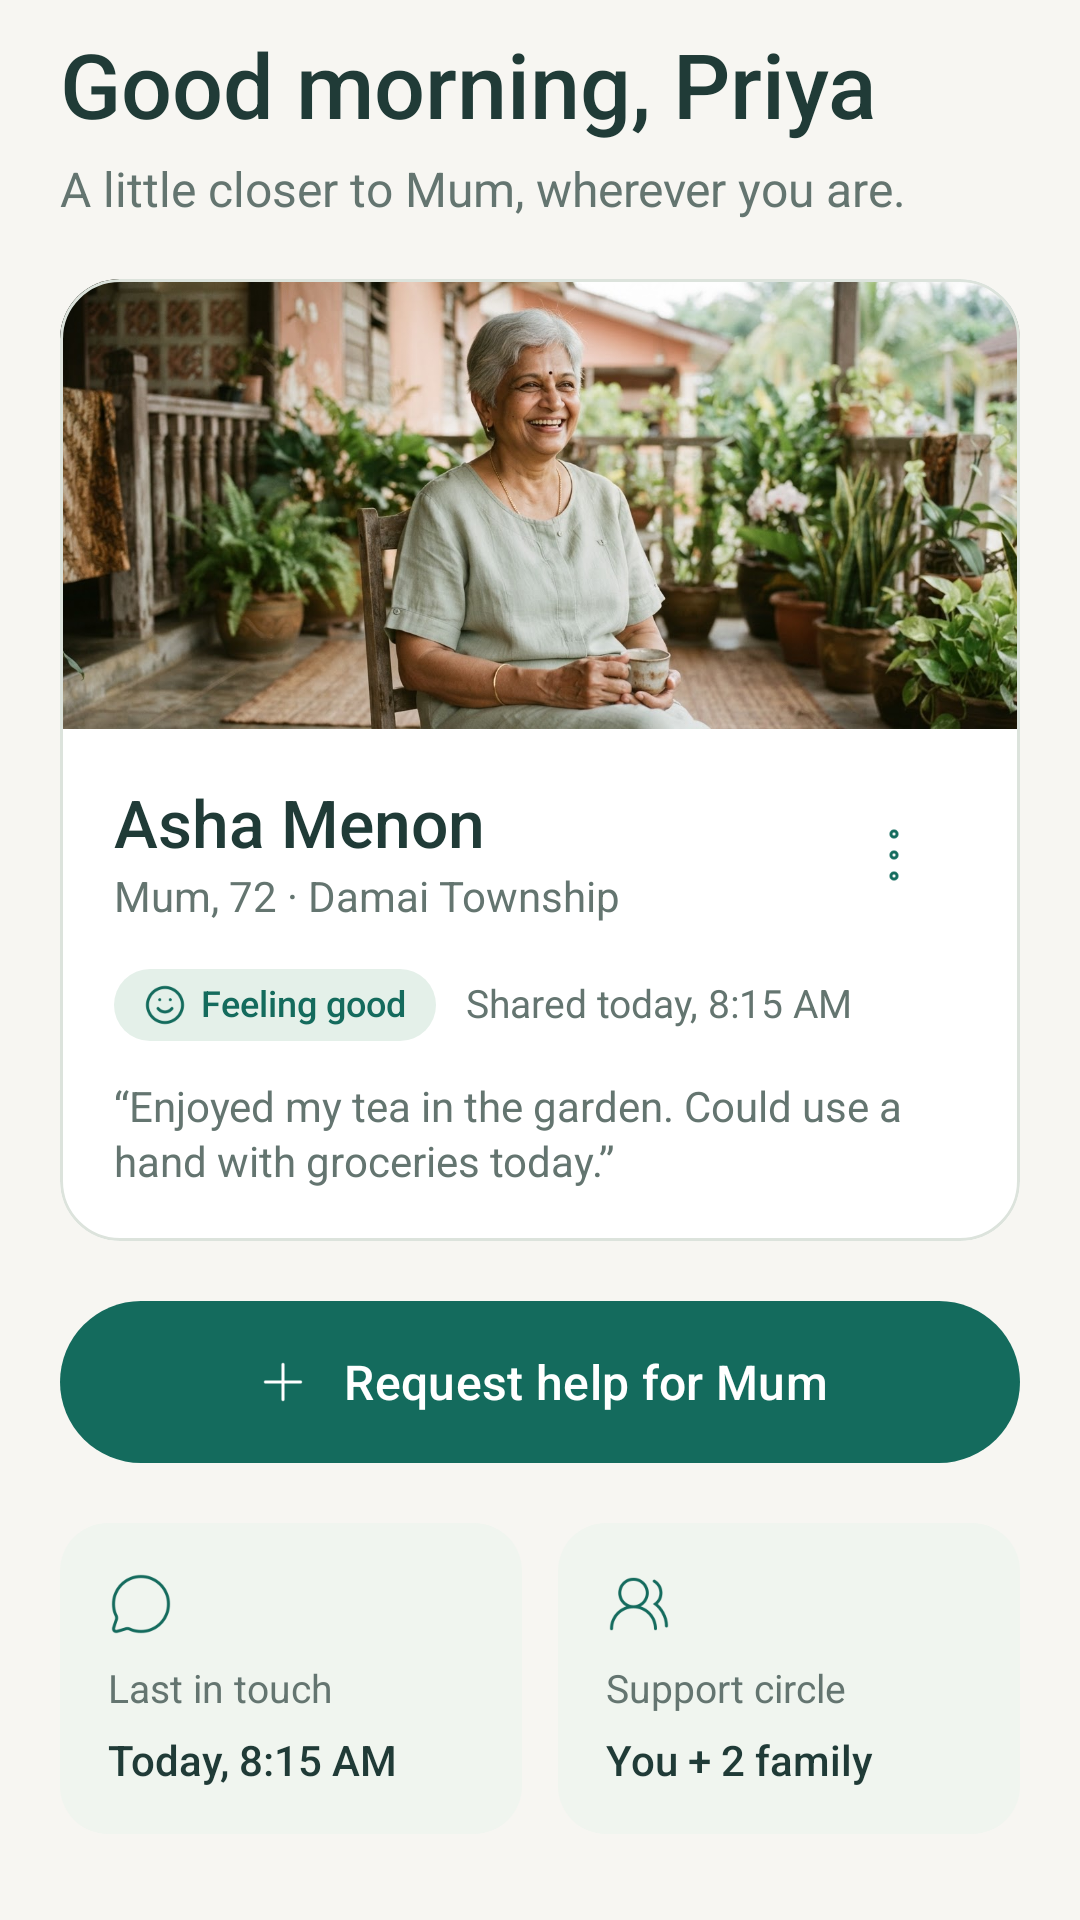

Named icons in this screenshot (1080px x 1920px) and their centers, [x,y]:
home message circle: [141,1604]
home smile: [165,1005]
home users round: [639,1604]
